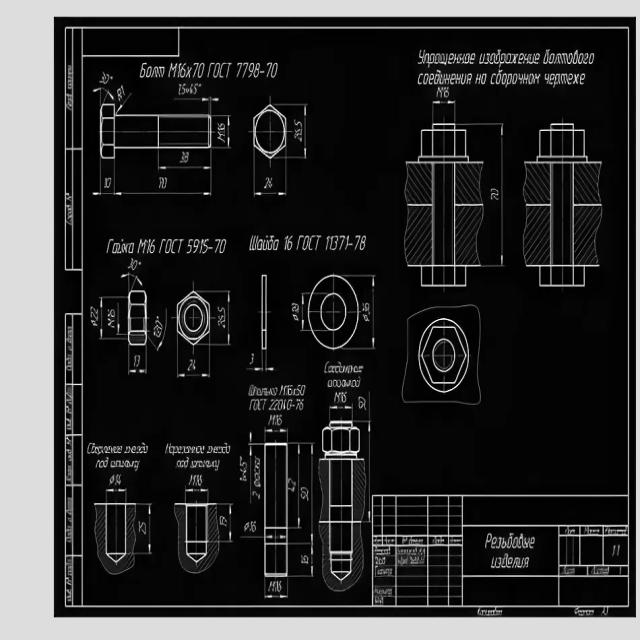marking_line: (92, 159, 214, 197), (113, 159, 212, 197), (289, 441, 316, 578), (484, 122, 504, 268), (359, 274, 377, 350), (252, 159, 287, 198), (157, 150, 216, 173), (98, 296, 127, 342), (287, 103, 309, 161), (247, 432, 264, 506), (210, 289, 231, 347), (289, 441, 302, 530), (177, 346, 211, 379), (147, 308, 168, 352), (137, 501, 152, 556), (212, 115, 232, 149), (174, 95, 210, 113), (246, 351, 275, 373), (366, 419, 372, 521), (432, 99, 456, 123), (220, 503, 234, 544), (360, 419, 374, 458), (264, 577, 289, 598), (183, 485, 210, 503), (328, 403, 354, 419), (355, 334, 378, 352), (105, 487, 129, 504), (121, 272, 143, 290), (353, 271, 377, 287), (92, 159, 102, 197), (245, 351, 263, 372), (264, 427, 289, 442), (116, 301, 127, 335), (93, 85, 114, 102), (116, 93, 132, 114), (139, 346, 149, 374), (300, 292, 307, 332), (127, 347, 136, 376), (265, 351, 276, 373), (266, 531, 286, 541), (210, 96, 220, 115)
numeric: (197, 62, 205, 79), (235, 63, 243, 79), (247, 62, 255, 78), (219, 239, 227, 254), (192, 62, 199, 79), (266, 62, 273, 79), (271, 62, 278, 79), (254, 63, 261, 79), (192, 238, 199, 254), (187, 239, 194, 254), (214, 239, 221, 254), (353, 235, 360, 250), (338, 236, 345, 251), (239, 456, 247, 469), (344, 235, 350, 252), (325, 233, 331, 250), (202, 239, 209, 253), (181, 62, 187, 78), (242, 62, 248, 78), (287, 235, 293, 251), (360, 235, 366, 251), (219, 515, 227, 527), (293, 118, 303, 127), (187, 358, 193, 373), (252, 490, 261, 500), (288, 476, 296, 487), (301, 554, 309, 565), (99, 72, 106, 84), (250, 521, 257, 533), (243, 520, 250, 532), (217, 122, 226, 131), (294, 134, 303, 143), (217, 305, 226, 314), (138, 526, 147, 535), (358, 402, 367, 411), (490, 187, 499, 196), (261, 398, 267, 411), (150, 238, 155, 253), (199, 239, 204, 254), (121, 85, 127, 97), (152, 331, 160, 340), (116, 475, 122, 487), (277, 414, 283, 426), (300, 385, 306, 397), (437, 87, 443, 99), (334, 236, 339, 250), (361, 308, 371, 315), (285, 234, 289, 251), (132, 259, 138, 270), (197, 474, 203, 485), (268, 399, 274, 410), (444, 87, 450, 98), (180, 151, 185, 164), (250, 352, 255, 365), (278, 397, 283, 410), (177, 63, 181, 79), (107, 309, 115, 317), (155, 319, 163, 327), (218, 321, 226, 329), (89, 307, 98, 314), (301, 494, 310, 501), (104, 74, 110, 84), (181, 83, 186, 95), (194, 83, 199, 95), (185, 152, 190, 164), (264, 177, 269, 189), (268, 177, 273, 189), (294, 128, 304, 134), (147, 238, 151, 253), (287, 398, 292, 410), (489, 194, 499, 200), (163, 176, 167, 190), (90, 313, 98, 320), (138, 521, 146, 528), (287, 486, 295, 493), (300, 487, 308, 494), (359, 396, 366, 404), (192, 474, 197, 485), (299, 399, 304, 410), (288, 385, 293, 396), (159, 176, 163, 189), (104, 177, 108, 190), (137, 355, 141, 368), (296, 398, 300, 411), (297, 384, 301, 397), (128, 258, 133, 268), (188, 475, 193, 485), (108, 177, 112, 189), (133, 355, 137, 367), (192, 359, 196, 371), (291, 306, 300, 311), (190, 83, 194, 94), (343, 392, 347, 403), (219, 315, 226, 321), (362, 302, 369, 308), (279, 580, 282, 594), (153, 327, 163, 331), (239, 478, 247, 483), (275, 399, 278, 411), (283, 398, 286, 410), (341, 392, 344, 404), (275, 581, 278, 592), (179, 84, 181, 95), (292, 303, 299, 306), (275, 416, 277, 426)
special_symbol: (291, 313, 299, 322), (109, 475, 114, 486), (198, 83, 203, 87)
